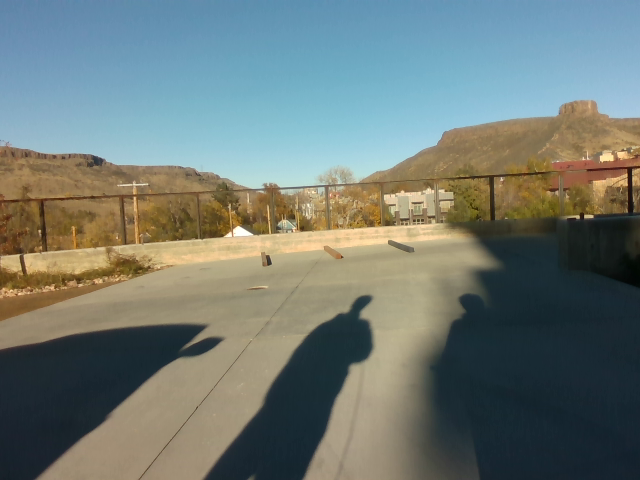Dunnage: (260, 236, 417, 275)
